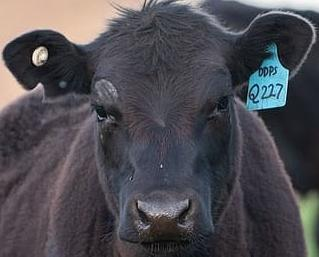muzzles: (116, 191, 217, 256)
